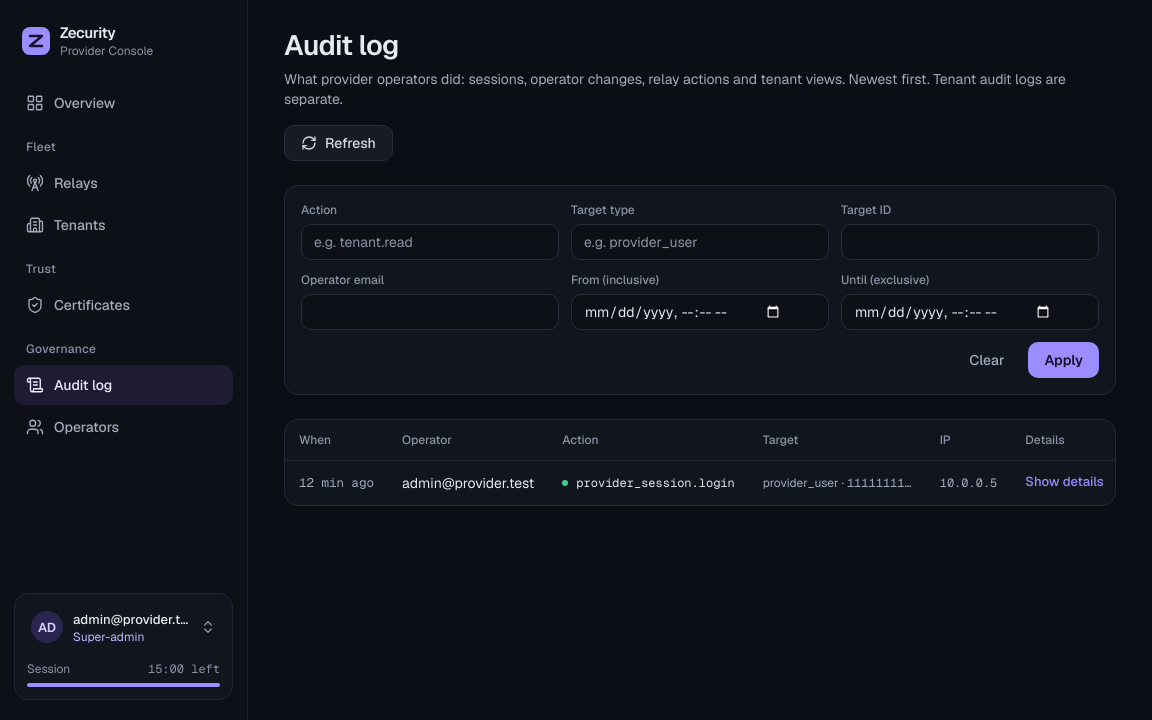
it: Audit: details › details value number renders as its JSON text
Expected: the table named "Audit entries" is shown, left=285, top=420, right=1115, bottom=504
Click the button "Show details": (1065, 482) left=1025, top=473, right=1104, bottom=492
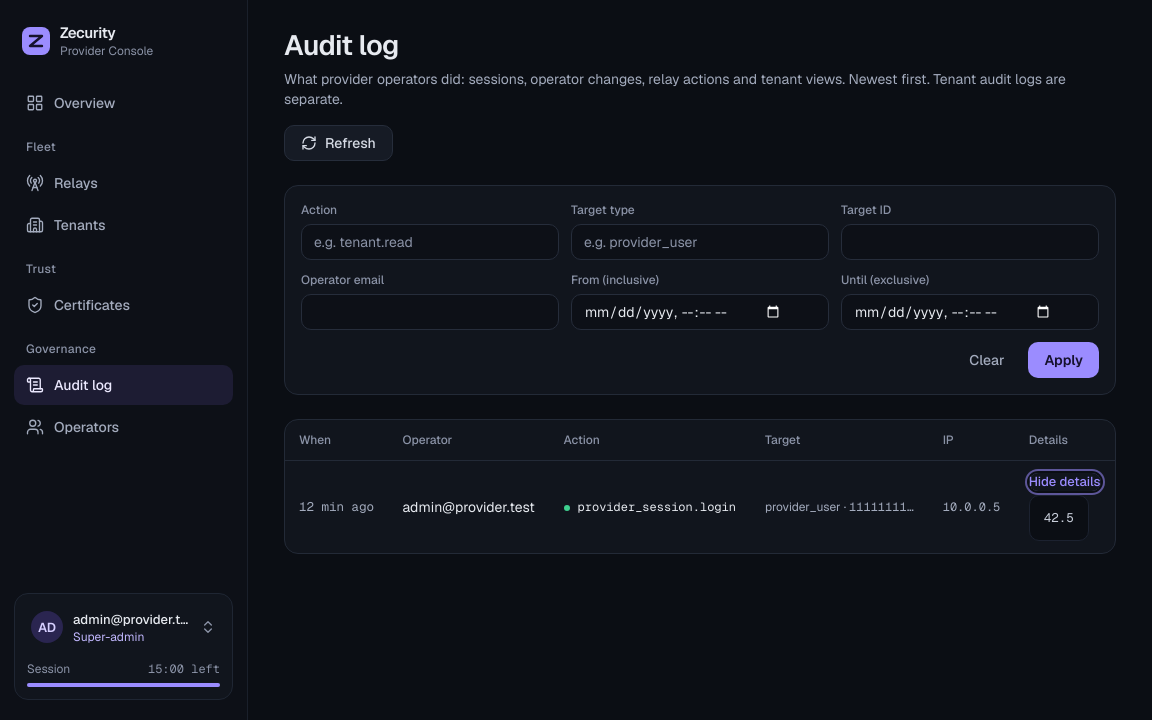
Now the text named "Details JSON" reads "42.5", box left=1044, top=509, right=1074, bottom=526
